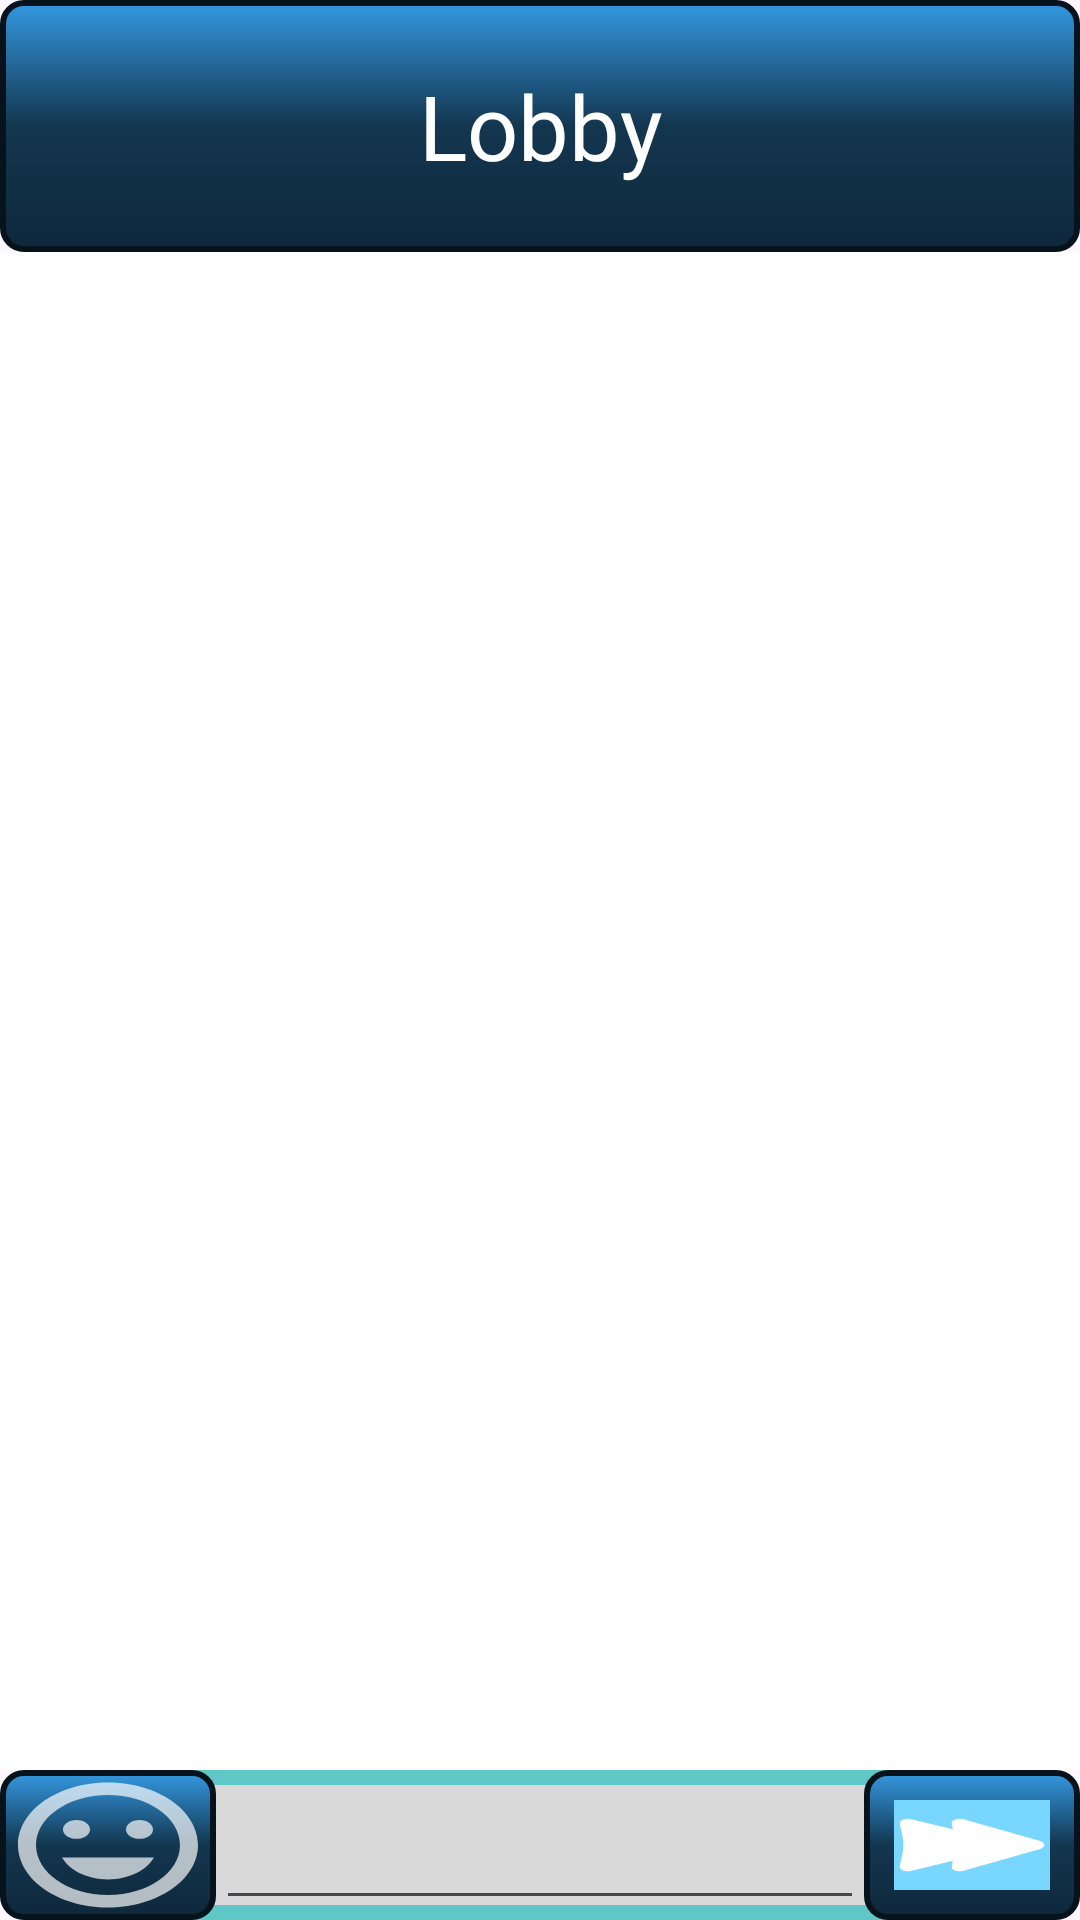

Where to tap for icons on this 1080x1920 app screen, as [x,y]:
forward: [972,1845]
smiley: [108,1845]
